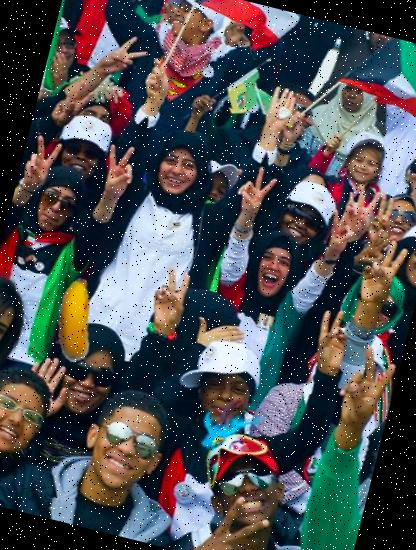Banana: (24, 269, 126, 371)
